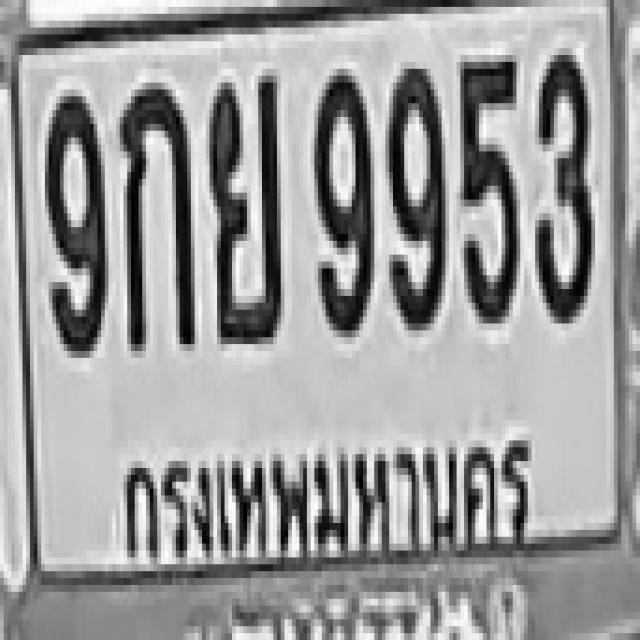10GorGai: (116, 76, 191, 344)
3: (532, 48, 592, 317)
43YorYak: (206, 69, 281, 337)
5: (456, 52, 516, 320)
9: (41, 89, 105, 351), (310, 62, 370, 330), (386, 62, 442, 323)
Bangkok: (115, 418, 540, 586)
